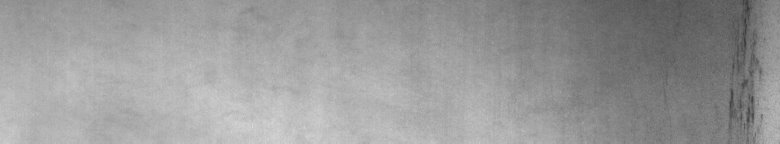ka: (716, 4, 767, 136)
